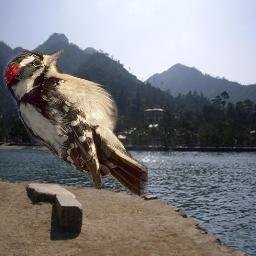Woodpecker: (3, 48, 148, 198)
